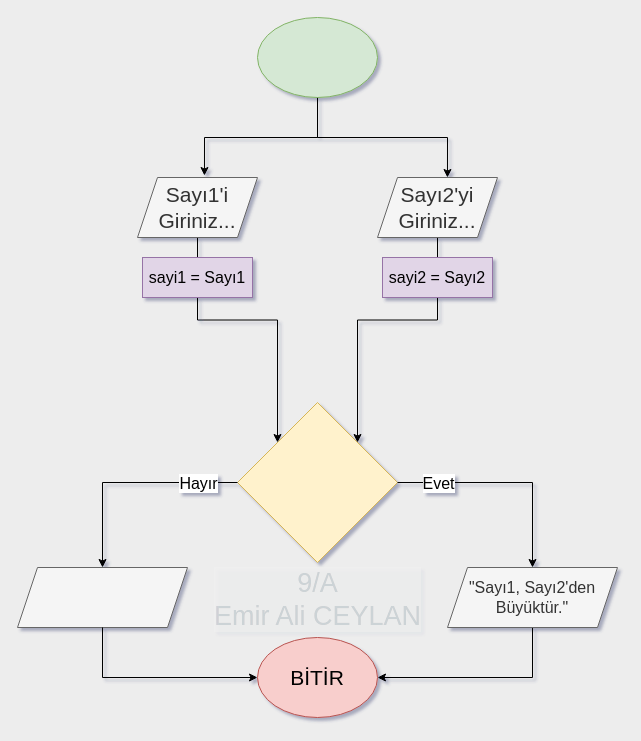
This 641x741 diagram has some shape labels left out. The shapes that lost their labels are listed below. From the top down, each one's centre as x and y in pixels, then its label:
(317,57): BAŞLA
(317,482): sayi1, sayi2'den Büyük mü?
(102,597): "Sayı2, Sayı1'den Büyüktür."
